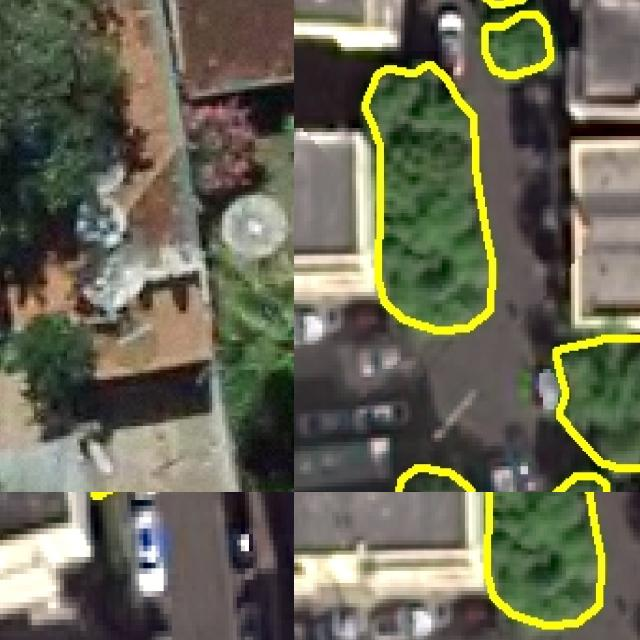trees: (1, 1, 124, 289), (364, 64, 493, 331), (485, 493, 602, 626), (223, 263, 295, 440), (555, 336, 640, 469), (484, 14, 551, 76), (554, 475, 608, 493)
